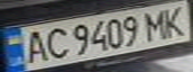0: (106, 16, 127, 51)
4: (87, 18, 109, 53)
9: (69, 20, 93, 57), (121, 12, 145, 47)
A: (18, 27, 51, 64)
C: (42, 25, 72, 61)
K: (157, 2, 193, 38)
M: (139, 7, 172, 40)
